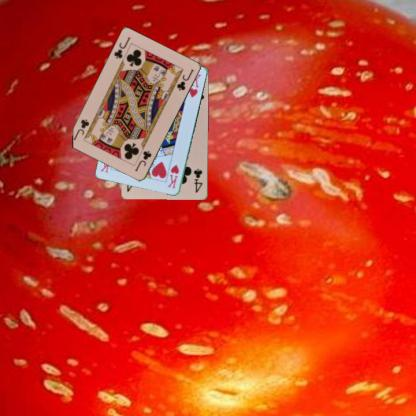4c: (191, 166, 204, 194)
Jc: (132, 148, 152, 173), (112, 35, 132, 60)
Kh: (165, 162, 180, 190)
